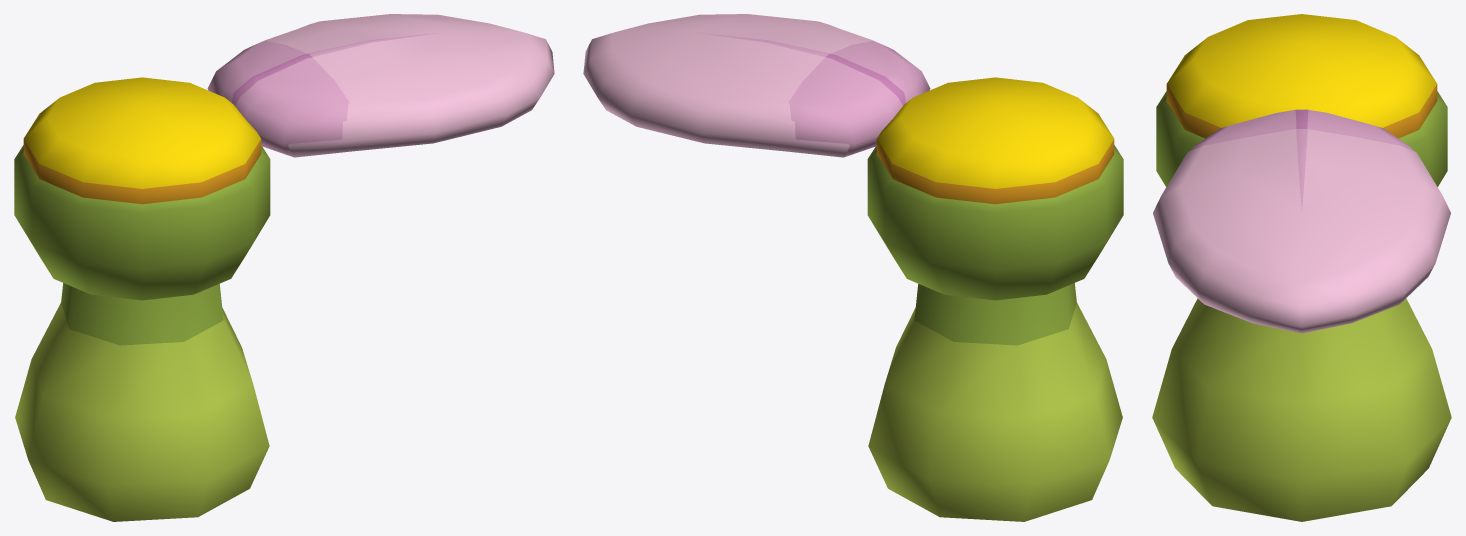
File: mesh_bounceFlower.fbx
The picture shows the model from 3 angles, left to right: view 1: azimuth 30°, elevation 25°; view 2: azimuth 150°, elevation 25°; view 3: azimuth 270°, elevation 25°; orthographic projection. The views are drawn at different scales.
Visible parts, largest first — view 1: mesh_flowerStem, mesh_flowerPetal_Top, mesh_flowerBud, mesh_flowerPetal_Bottom; view 2: mesh_flowerStem, mesh_flowerPetal_Top, mesh_flowerBud, mesh_flowerPetal_Bottom; view 3: mesh_flowerStem, mesh_flowerPetal_Top, mesh_flowerBud, mesh_flowerPetal_Bottom.
Part boxes in pixels (left/top/right/bottom): mesh_flowerStem: left=14, top=145, right=270, bottom=521; mesh_flowerPetal_Top: left=249, top=14, right=554, bottom=157; mesh_flowerBud: left=23, top=77, right=261, bottom=204; mesh_flowerPetal_Bottom: left=207, top=41, right=349, bottom=154; mesh_flowerStem: left=867, top=145, right=1123, bottom=521; mesh_flowerPetal_Top: left=583, top=14, right=888, bottom=157; mesh_flowerBud: left=876, top=77, right=1114, bottom=204; mesh_flowerPetal_Bottom: left=788, top=41, right=930, bottom=154; mesh_flowerStem: left=1152, top=91, right=1451, bottom=521; mesh_flowerPetal_Top: left=1153, top=129, right=1450, bottom=333; mesh_flowerBud: left=1166, top=14, right=1437, bottom=138; mesh_flowerPetal_Bottom: left=1190, top=109, right=1413, bottom=150.
Bounding box in the file's own units: 1.18 × 0.8198 × 0.5142.
2 materials, 2 textured.
